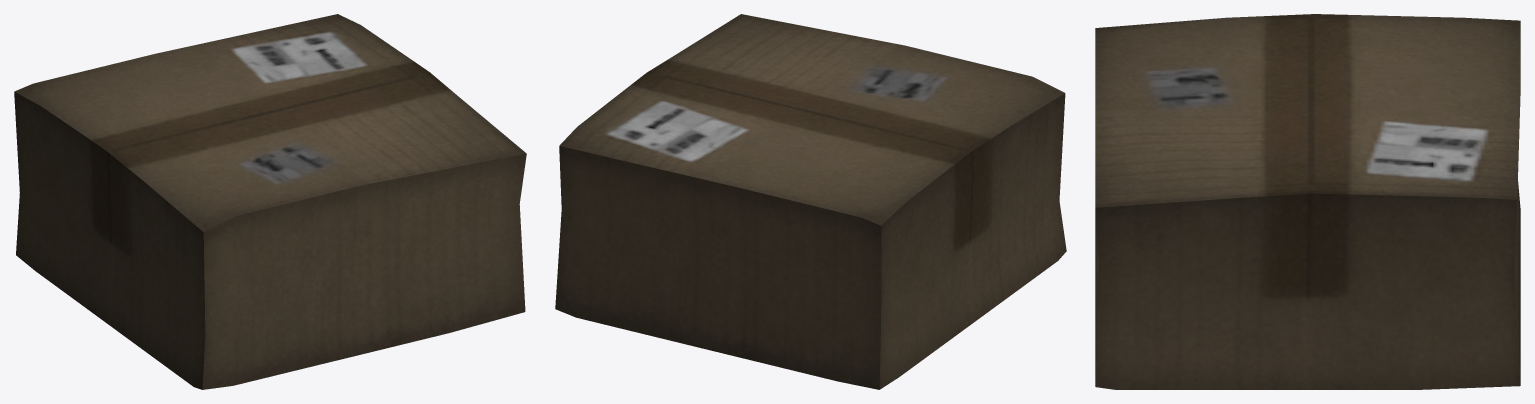
File: cardboard_box_1.obj
3 views of the same model, side by side, from view 1: azimuth 30°, elevation 25°; view 2: azimuth 150°, elevation 25°; view 3: azimuth 270°, elevation 25° (orthographic). The views are drawn at different scales.
Parts seen in each view (by area): view 1: cardboard_box_1; view 2: cardboard_box_1; view 3: cardboard_box_1.
Boxes of the visible parts, box(x1,y1,x2,y2) form: cardboard_box_1: box(14, 14, 526, 389); cardboard_box_1: box(555, 14, 1066, 389); cardboard_box_1: box(1095, 14, 1520, 389).
Bounding box in the file's own units: 0.7269 × 0.367 × 0.72.
